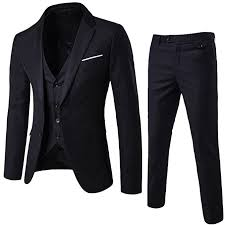F_M_suit jacket: (1, 1, 145, 195)
F_dress pants: (144, 26, 224, 225)
